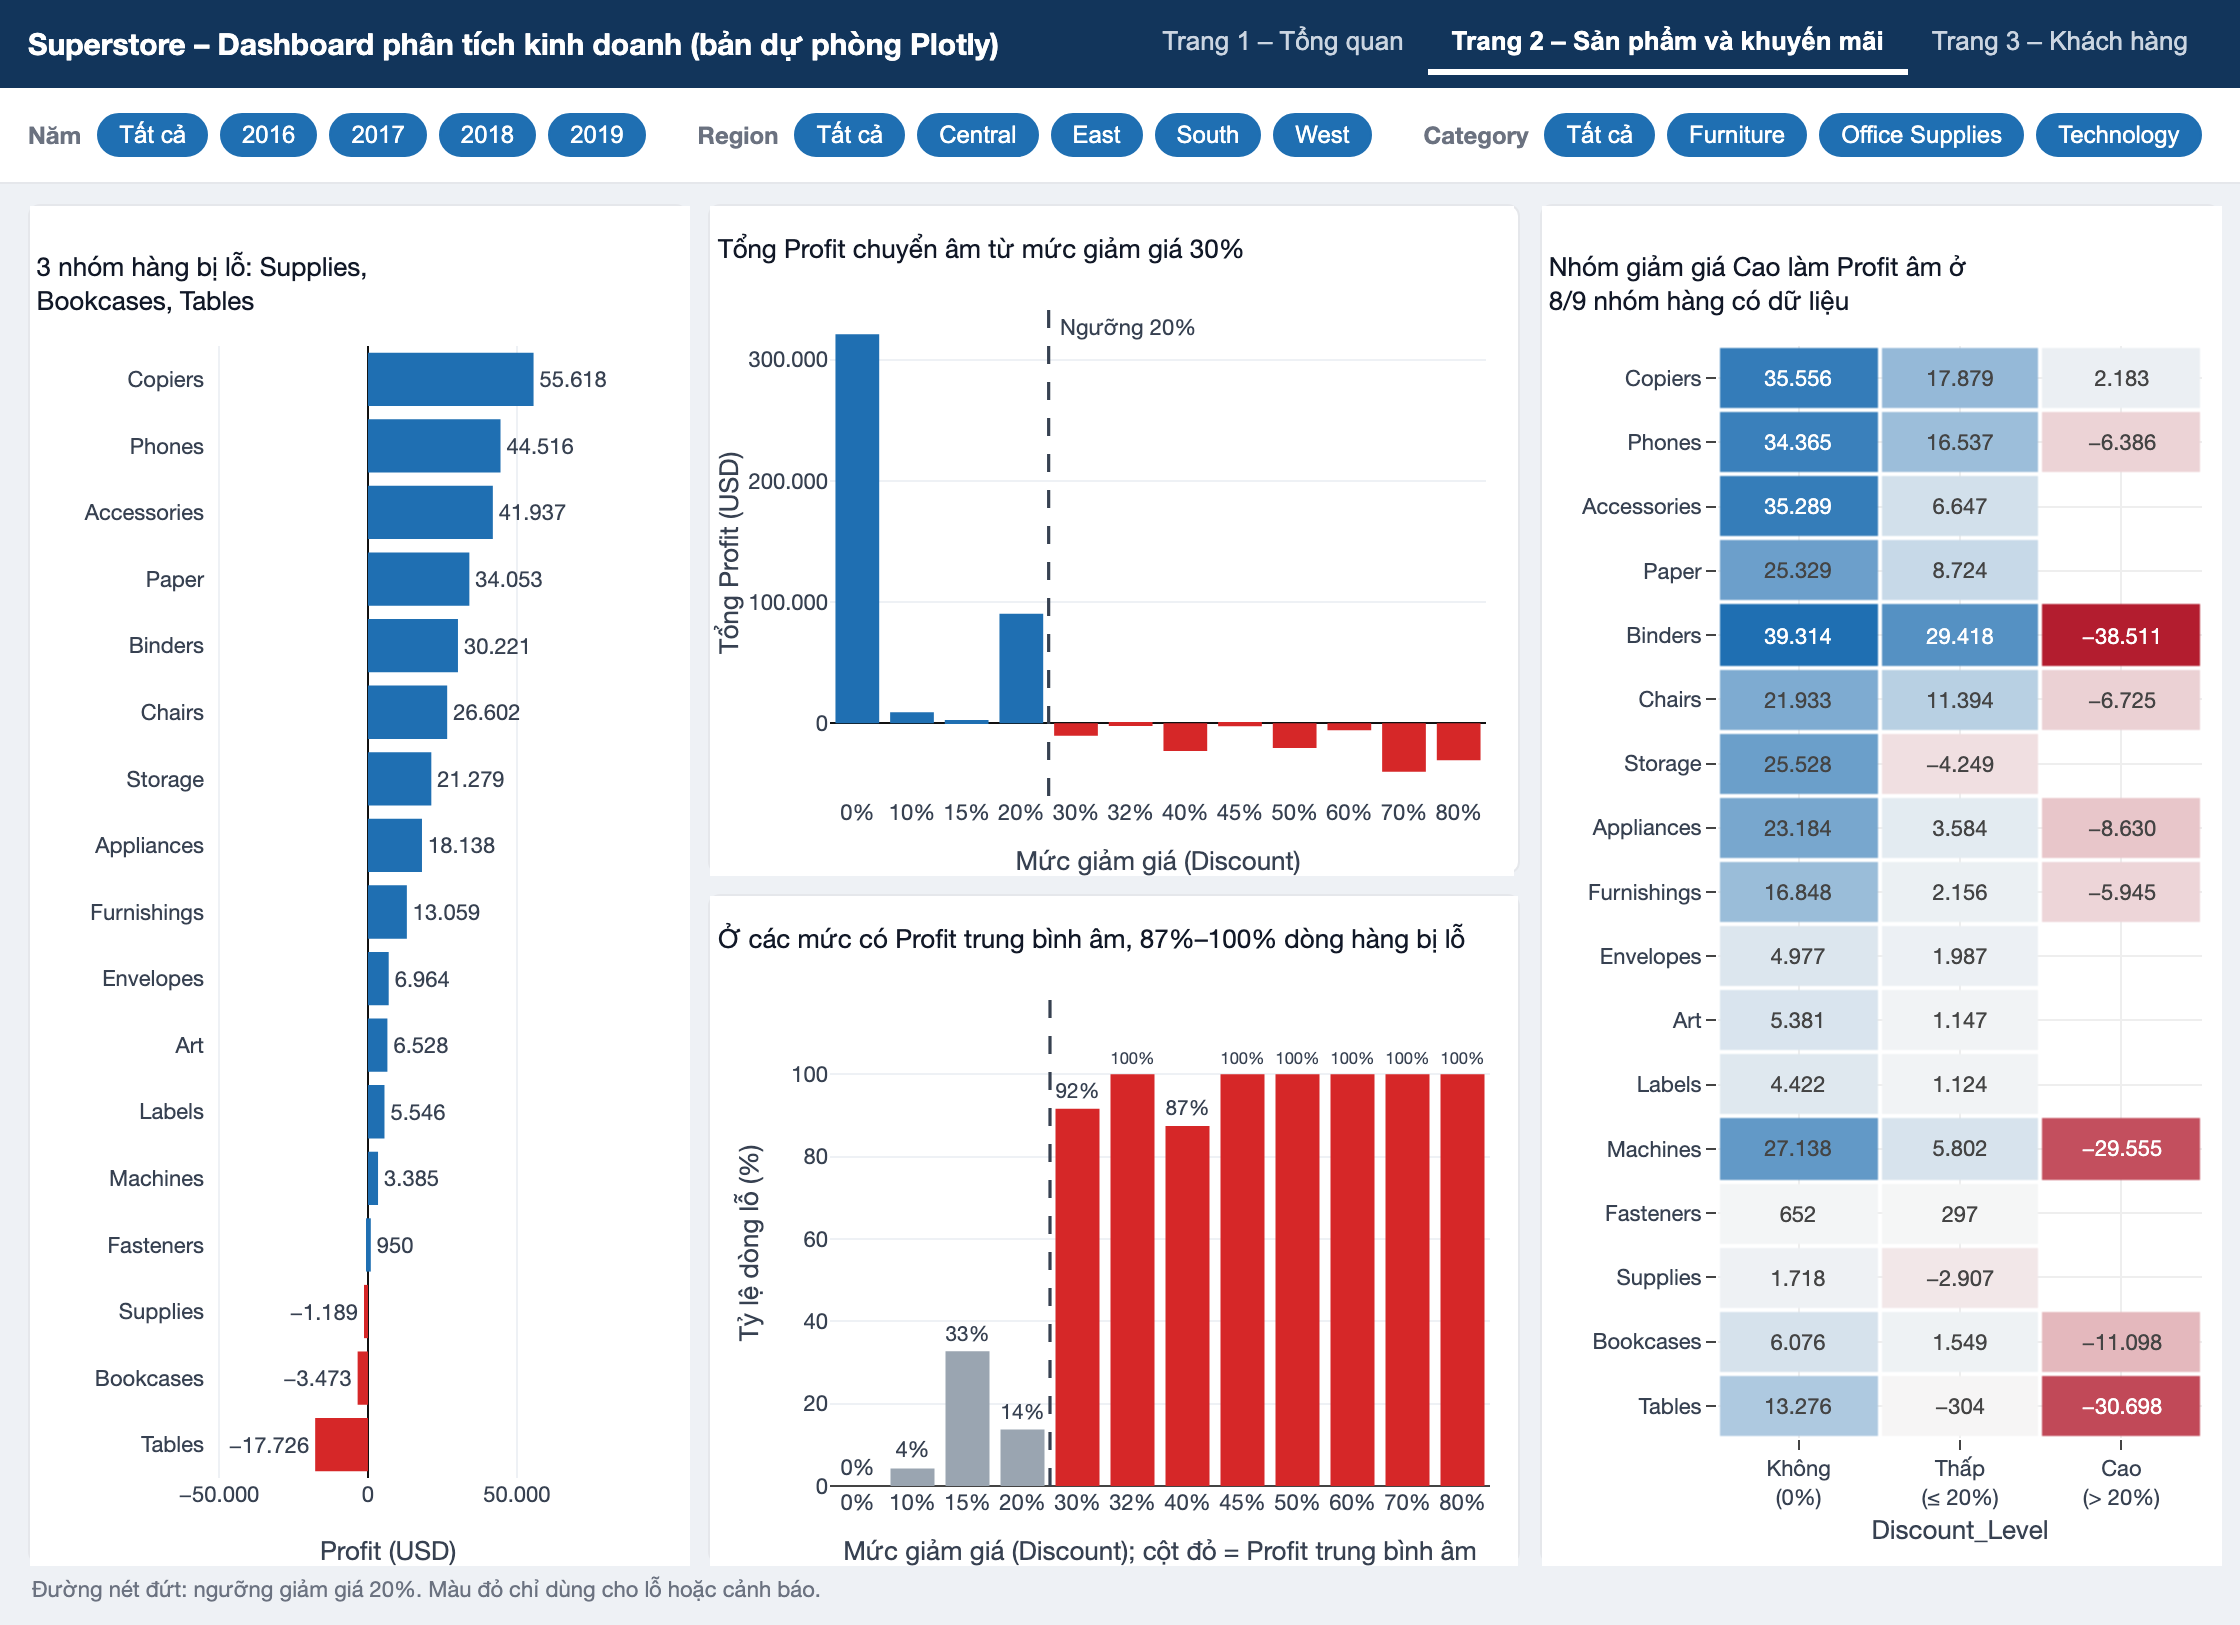

The dashboard page shown, as its layout file describes it:
{"tool":"tableau","page":{"name":"Trang 2 - San pham va khuyen mai","canvas":[1280,720],"ordinal":1},"visuals":[{"type":"filter","title":"Profit theo Discount","param":"[federated.1uwefz30ha1kz11gx3cue1jap6an].[none:Region:nk]","box":[16,8,300,44]},{"type":"filter","title":"Tỷ lệ lỗ theo Discount","param":"[federated.1uwefz30ha1kz11gx3cue1jap6an].[none:Category:nk]","box":[332,8,300,44]},{"type":"worksheet","title":"Profit theo SubCat","mark":"Automatic","rows":["Sub-Category"],"cols":["Profit"],"box":[16,60,618,320]},{"type":"worksheet","title":"Ma trận SubCat x Discount","mark":"Square","rows":["Sub-Category"],"cols":["Discount_Level"],"box":[646,60,618,320]},{"type":"worksheet","title":"Profit theo Discount","mark":"Bar","rows":["Profit"],"cols":["Discount"],"box":[16,392,618,320]},{"type":"worksheet","title":"Tỷ lệ lỗ theo Discount","mark":"Bar","rows":["Calculation_3607415051976719"],"cols":["Discount"],"box":[646,392,618,320]}]}

Visuals, with their boxes on the page's 1280x720 design canvas (x1, y1, x2, y2). These are canvas units, not pixel positions in the 2240x1625 screenshot, which may show the page scaled, cropped or inside an application window:
"Profit theo Discount" filter: BBox(16, 8, 316, 52)
"Tỷ lệ lỗ theo Discount" filter: BBox(332, 8, 632, 52)
"Profit theo SubCat" worksheet: BBox(16, 60, 634, 380)
"Ma trận SubCat x Discount" worksheet (Square marks): BBox(646, 60, 1264, 380)
"Profit theo Discount" worksheet (Bar marks): BBox(16, 392, 634, 712)
"Tỷ lệ lỗ theo Discount" worksheet (Bar marks): BBox(646, 392, 1264, 712)
